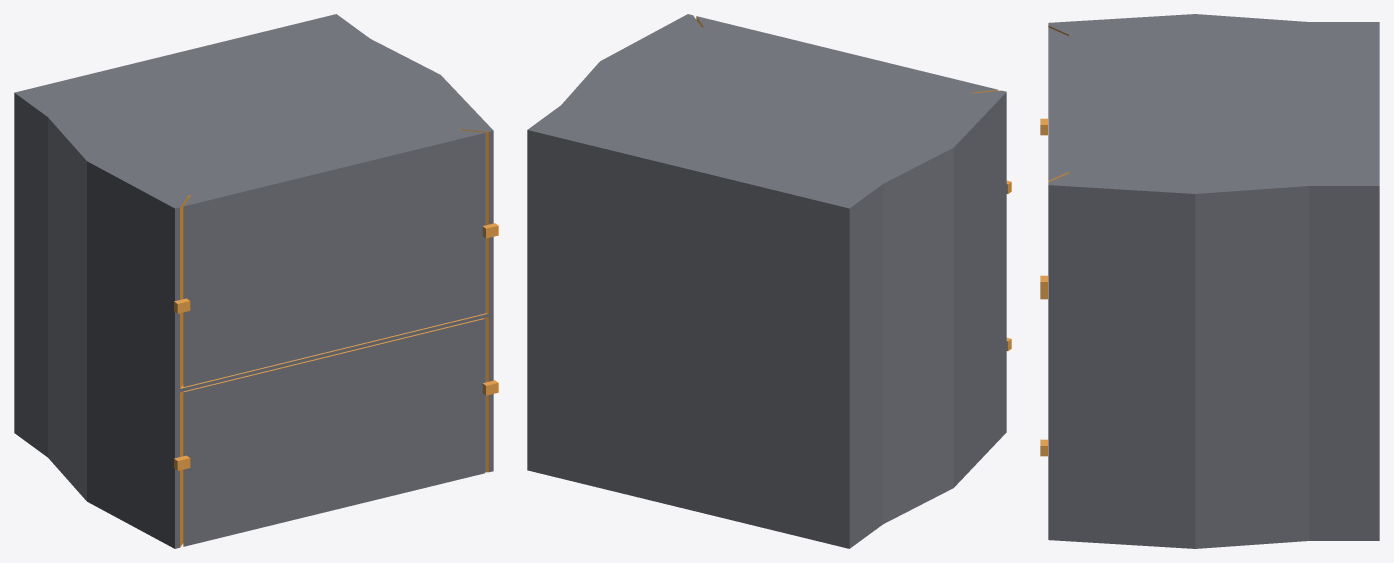
Rendered from panorama.glb.
3 renders of one model, left to right at view 1: azimuth 30°, elevation 25°; view 2: azimuth 150°, elevation 25°; view 3: azimuth 270°, elevation 25°, orthographic. The views are drawn at different scales.
Parts seen in each view (by area): view 1: shell, upper, lower; view 2: shell, upper; view 3: shell, upper.
Boxes of the visible parts, x1,y1,x2,y2 form: shell: (14,14,493,548); upper: (183,130,485,386); lower: (183,318,485,546); shell: (527,14,1006,548); upper: (696,16,998,93); shell: (1048,14,1379,548); upper: (1048,27,1068,182).
Bounding box in the file's own units: 2.26 × 2.08 × 1.8.
